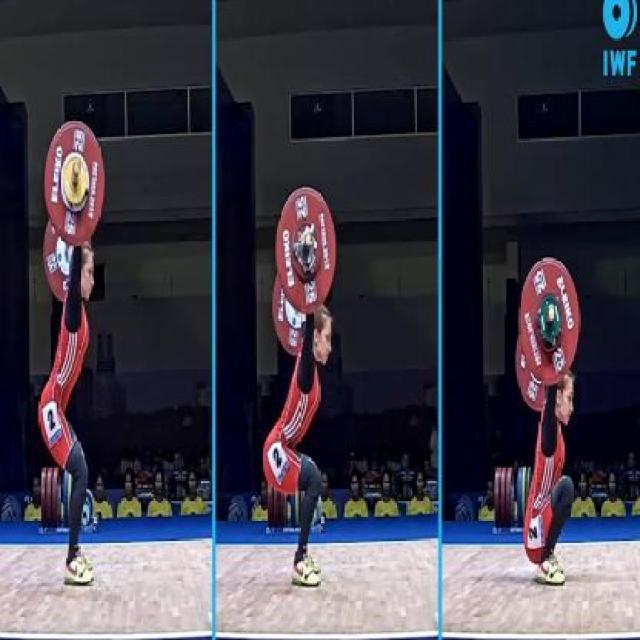Barbell: (303, 228, 314, 252), (546, 300, 557, 322), (72, 158, 82, 177)
